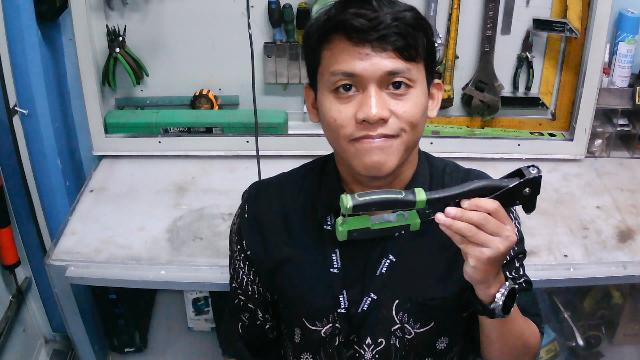tang_rivet: (336, 161, 546, 247)
